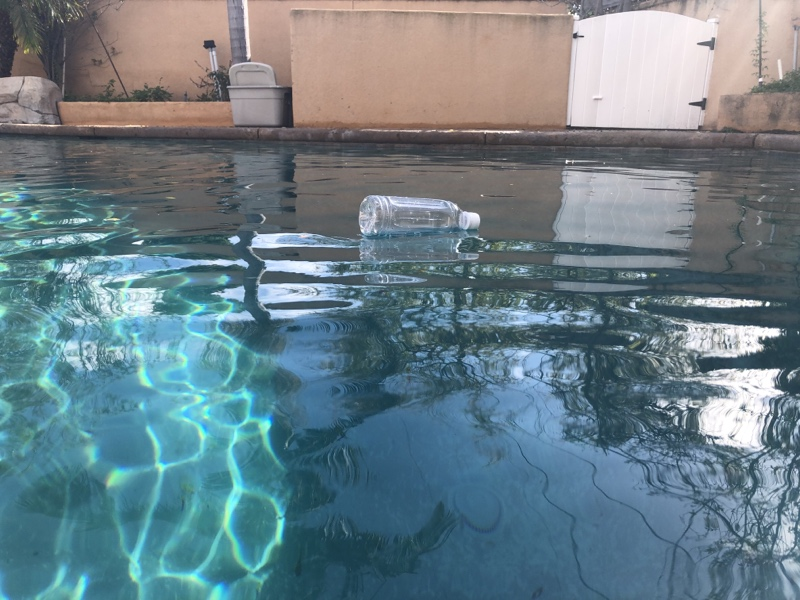Plastic Bottle: (354, 192, 485, 246)
